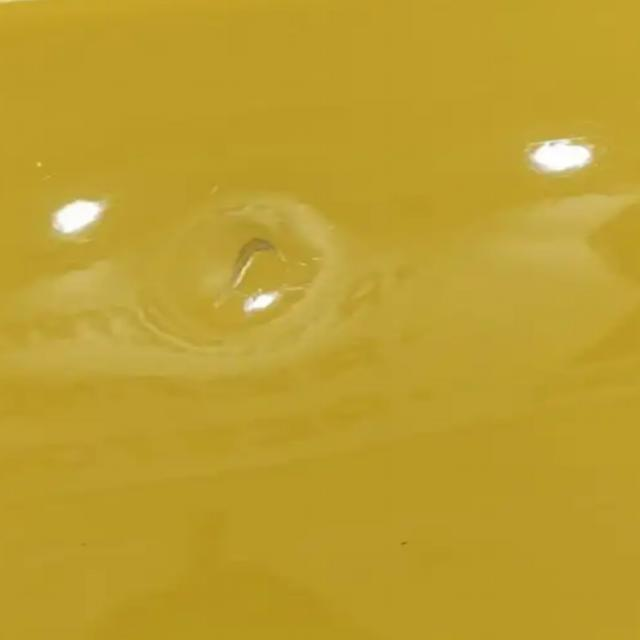dents: (119, 186, 394, 346)
